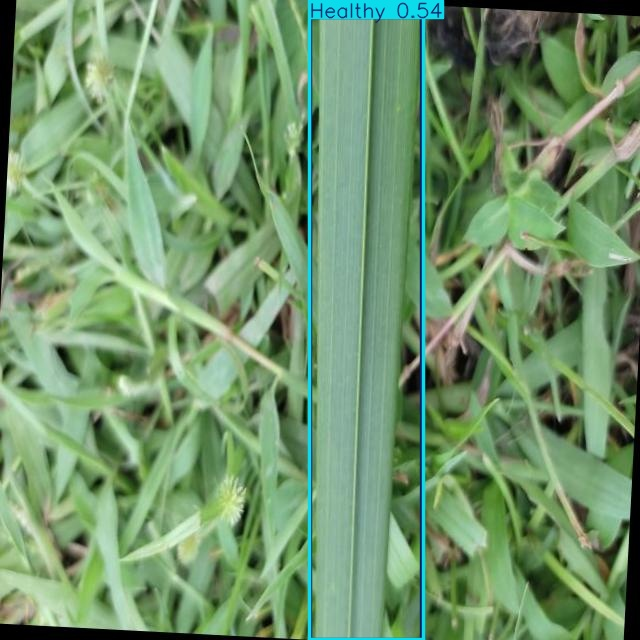Healthy: (309, 1, 423, 639)
nitrogen: (311, 0, 422, 640)
